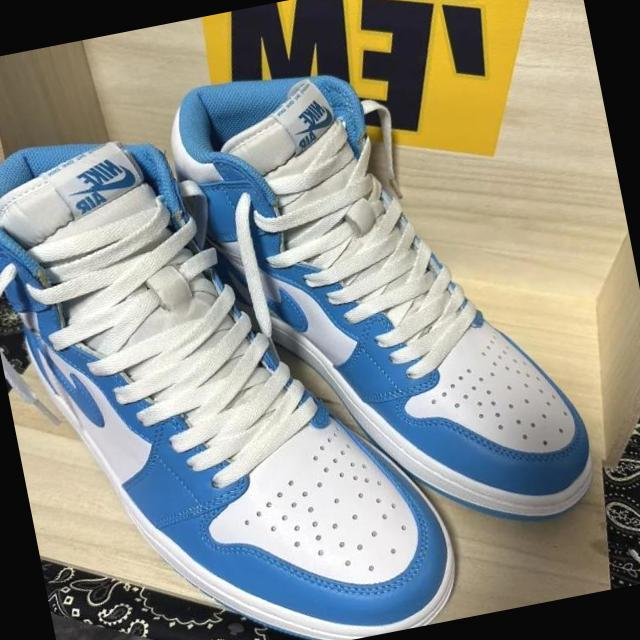nike_original_jordan: (0, 93, 466, 640), (161, 29, 604, 583)
